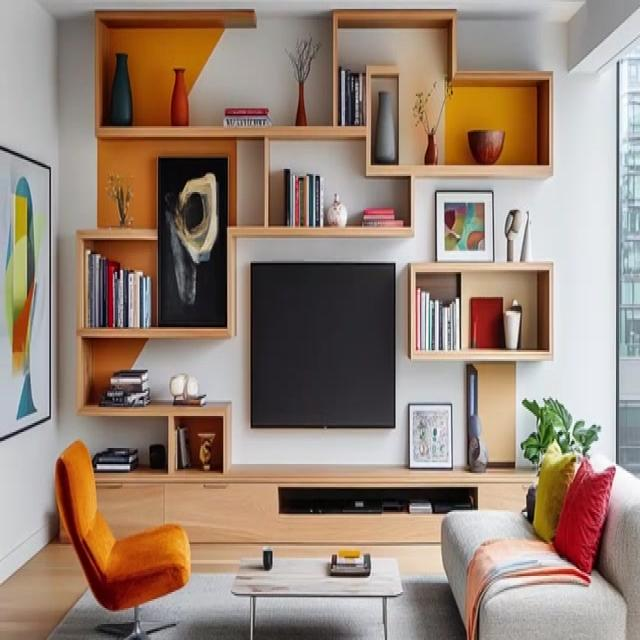obstacle: (79, 13, 554, 473), (440, 452, 639, 638), (55, 438, 191, 638), (230, 555, 403, 638)
